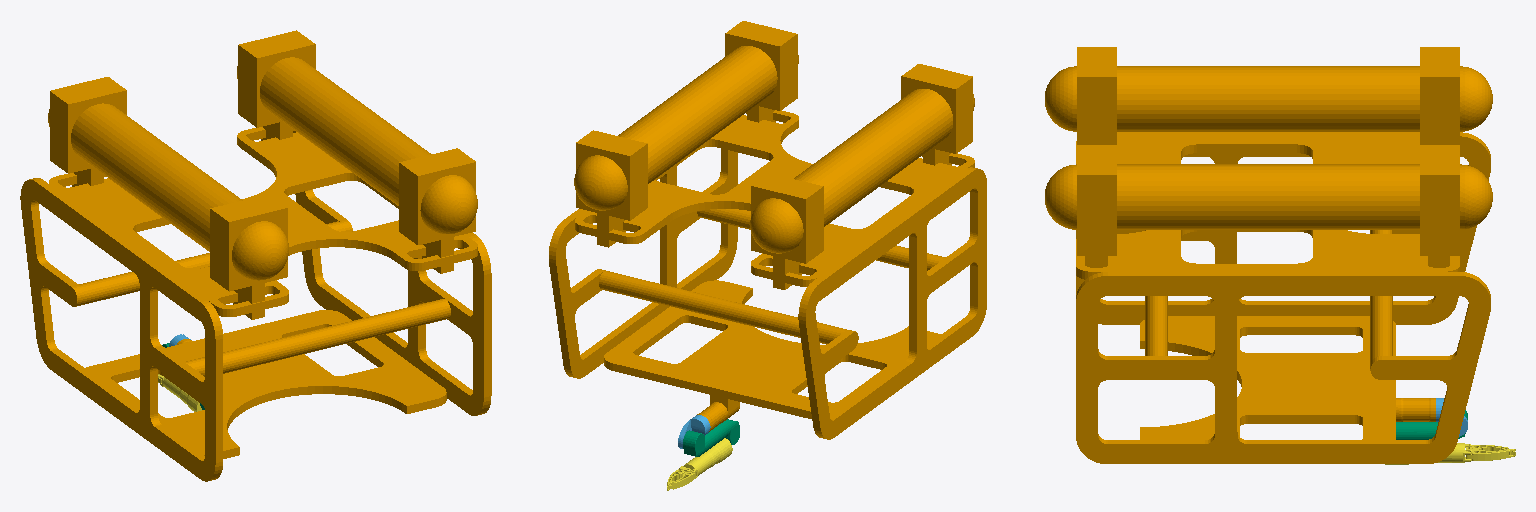
URDF robot description (generated_robot):
<?xml version='1.0' encoding='utf-8'?>
<robot name="generated_robot">
  <link name="base_link">
    <inertial>
      <origin xyz="-5.289826e-08 0.0096044129 0.074516494" rpy="0 0 0" />
      <mass value="127.84851" />
      <inertia ixx="20.014444" iyy="19.377" izz="23.15771" ixy="-5.7526144e-08" ixz="-7.2249073e-07" iyz="0.45698878" />
    </inertial>
    <visual>
      <origin xyz="0.7456337 -0.74786146 0.75564012" rpy="0 0 0" />
      <geometry>
        <mesh filename="meshes/part_023_solid_023.stl" scale="0.001 0.001 0.001" />
      </geometry>
    </visual>
    <visual>
      <origin xyz="0.7456337 -0.74786146 0.75564012" rpy="0 0 0" />
      <geometry>
        <mesh filename="meshes/part_011_solid_011.stl" scale="0.001 0.001 0.001" />
      </geometry>
    </visual>
    <visual>
      <origin xyz="0.7456337 -0.74786146 0.75564012" rpy="0 0 0" />
      <geometry>
        <mesh filename="meshes/part_015_solid_015.stl" scale="0.001 0.001 0.001" />
      </geometry>
    </visual>
    <visual>
      <origin xyz="0.7456337 -0.74786146 0.75564012" rpy="0 0 0" />
      <geometry>
        <mesh filename="meshes/part_007_solid_007.stl" scale="0.001 0.001 0.001" />
      </geometry>
    </visual>
    <visual>
      <origin xyz="0.7456337 -0.74786146 0.75564012" rpy="0 0 0" />
      <geometry>
        <mesh filename="meshes/part_006_solid_006.stl" scale="0.001 0.001 0.001" />
      </geometry>
    </visual>
    <visual>
      <origin xyz="0.7456337 -0.74786146 0.75564012" rpy="0 0 0" />
      <geometry>
        <mesh filename="meshes/part_013_solid_013.stl" scale="0.001 0.001 0.001" />
      </geometry>
    </visual>
    <visual>
      <origin xyz="0.7456337 -0.74786146 0.75564012" rpy="0 0 0" />
      <geometry>
        <mesh filename="meshes/part_008_solid_008.stl" scale="0.001 0.001 0.001" />
      </geometry>
    </visual>
    <visual>
      <origin xyz="0.7456337 -0.74786146 0.75564012" rpy="0 0 0" />
      <geometry>
        <mesh filename="meshes/part_010_solid_010.stl" scale="0.001 0.001 0.001" />
      </geometry>
    </visual>
    <visual>
      <origin xyz="0.7456337 -0.74786146 0.75564012" rpy="0 0 0" />
      <geometry>
        <mesh filename="meshes/part_014_solid_014.stl" scale="0.001 0.001 0.001" />
      </geometry>
    </visual>
    <visual>
      <origin xyz="0.7456337 -0.74786146 0.75564012" rpy="0 0 0" />
      <geometry>
        <mesh filename="meshes/part_004_solid_004.stl" scale="0.001 0.001 0.001" />
      </geometry>
    </visual>
    <visual>
      <origin xyz="0.7456337 -0.74786146 0.75564012" rpy="0 0 0" />
      <geometry>
        <mesh filename="meshes/part_005_solid_005.stl" scale="0.001 0.001 0.001" />
      </geometry>
    </visual>
    <visual>
      <origin xyz="0.7456337 -0.74786146 0.75564012" rpy="0 0 0" />
      <geometry>
        <mesh filename="meshes/part_002_solid_002.stl" scale="0.001 0.001 0.001" />
      </geometry>
    </visual>
    <visual>
      <origin xyz="0.7456337 -0.74786146 0.75564012" rpy="0 0 0" />
      <geometry>
        <mesh filename="meshes/part_012_solid_012.stl" scale="0.001 0.001 0.001" />
      </geometry>
    </visual>
    <visual>
      <origin xyz="0.7456337 -0.74786146 0.75564012" rpy="0 0 0" />
      <geometry>
        <mesh filename="meshes/part_003_solid_003.stl" scale="0.001 0.001 0.001" />
      </geometry>
    </visual>
    <visual>
      <origin xyz="0.7456337 -0.74786146 0.75564012" rpy="0 0 0" />
      <geometry>
        <mesh filename="meshes/part_001_solid_001.stl" scale="0.001 0.001 0.001" />
      </geometry>
    </visual>
    <visual>
      <origin xyz="0.7456337 -0.74786146 0.75564012" rpy="0 0 0" />
      <geometry>
        <mesh filename="meshes/part_009_solid_009.stl" scale="0.001 0.001 0.001" />
      </geometry>
    </visual>
    <visual>
      <origin xyz="0.7456337 -0.74786146 0.75564012" rpy="0 0 0" />
      <geometry>
        <mesh filename="meshes/part_016_solid_016.stl" scale="0.001 0.001 0.001" />
      </geometry>
    </visual>
    <collision>
      <origin xyz="0.7456337 -0.74786146 0.75564012" rpy="0 0 0" />
      <geometry>
        <mesh filename="meshes/part_023_solid_023.stl" scale="0.001 0.001 0.001" />
      </geometry>
    </collision>
    <collision>
      <origin xyz="0.7456337 -0.74786146 0.75564012" rpy="0 0 0" />
      <geometry>
        <mesh filename="meshes/part_011_solid_011.stl" scale="0.001 0.001 0.001" />
      </geometry>
    </collision>
    <collision>
      <origin xyz="0.7456337 -0.74786146 0.75564012" rpy="0 0 0" />
      <geometry>
        <mesh filename="meshes/part_015_solid_015.stl" scale="0.001 0.001 0.001" />
      </geometry>
    </collision>
    <collision>
      <origin xyz="0.7456337 -0.74786146 0.75564012" rpy="0 0 0" />
      <geometry>
        <mesh filename="meshes/part_007_solid_007.stl" scale="0.001 0.001 0.001" />
      </geometry>
    </collision>
    <collision>
      <origin xyz="0.7456337 -0.74786146 0.75564012" rpy="0 0 0" />
      <geometry>
        <mesh filename="meshes/part_006_solid_006.stl" scale="0.001 0.001 0.001" />
      </geometry>
    </collision>
    <collision>
      <origin xyz="0.7456337 -0.74786146 0.75564012" rpy="0 0 0" />
      <geometry>
        <mesh filename="meshes/part_013_solid_013.stl" scale="0.001 0.001 0.001" />
      </geometry>
    </collision>
    <collision>
      <origin xyz="0.7456337 -0.74786146 0.75564012" rpy="0 0 0" />
      <geometry>
        <mesh filename="meshes/part_008_solid_008.stl" scale="0.001 0.001 0.001" />
      </geometry>
    </collision>
    <collision>
      <origin xyz="0.7456337 -0.74786146 0.75564012" rpy="0 0 0" />
      <geometry>
        <mesh filename="meshes/part_010_solid_010.stl" scale="0.001 0.001 0.001" />
      </geometry>
    </collision>
    <collision>
      <origin xyz="0.7456337 -0.74786146 0.75564012" rpy="0 0 0" />
      <geometry>
        <mesh filename="meshes/part_014_solid_014.stl" scale="0.001 0.001 0.001" />
      </geometry>
    </collision>
    <collision>
      <origin xyz="0.7456337 -0.74786146 0.75564012" rpy="0 0 0" />
      <geometry>
        <mesh filename="meshes/part_004_solid_004.stl" scale="0.001 0.001 0.001" />
      </geometry>
    </collision>
    <collision>
      <origin xyz="0.7456337 -0.74786146 0.75564012" rpy="0 0 0" />
      <geometry>
        <mesh filename="meshes/part_005_solid_005.stl" scale="0.001 0.001 0.001" />
      </geometry>
    </collision>
    <collision>
      <origin xyz="0.7456337 -0.74786146 0.75564012" rpy="0 0 0" />
      <geometry>
        <mesh filename="meshes/part_002_solid_002.stl" scale="0.001 0.001 0.001" />
      </geometry>
    </collision>
    <collision>
      <origin xyz="0.7456337 -0.74786146 0.75564012" rpy="0 0 0" />
      <geometry>
        <mesh filename="meshes/part_012_solid_012.stl" scale="0.001 0.001 0.001" />
      </geometry>
    </collision>
    <collision>
      <origin xyz="0.7456337 -0.74786146 0.75564012" rpy="0 0 0" />
      <geometry>
        <mesh filename="meshes/part_003_solid_003.stl" scale="0.001 0.001 0.001" />
      </geometry>
    </collision>
    <collision>
      <origin xyz="0.7456337 -0.74786146 0.75564012" rpy="0 0 0" />
      <geometry>
        <mesh filename="meshes/part_001_solid_001.stl" scale="0.001 0.001 0.001" />
      </geometry>
    </collision>
    <collision>
      <origin xyz="0.7456337 -0.74786146 0.75564012" rpy="0 0 0" />
      <geometry>
        <mesh filename="meshes/part_009_solid_009.stl" scale="0.001 0.001 0.001" />
      </geometry>
    </collision>
    <collision>
      <origin xyz="0.7456337 -0.74786146 0.75564012" rpy="0 0 0" />
      <geometry>
        <mesh filename="meshes/part_016_solid_016.stl" scale="0.001 0.001 0.001" />
      </geometry>
    </collision>
  </link>
  <link name="link_002">
    <inertial>
      <origin xyz="0.0082906926 0.0080729915 0.026643313" rpy="0 0 0" />
      <mass value="0.32982793" />
      <inertia ixx="0.00026270286" iyy="0.00021715273" izz="0.00022125005" ixy="-4.3272029e-05" ixz="-5.9783517e-05" iyz="-6.9853028e-05" />
    </inertial>
    <visual>
      <origin xyz="0.74563369 -1.1422401 -1.1558721" rpy="1.5707963 0 0" />
      <geometry>
        <mesh filename="meshes/part_017_solid_017.stl" scale="0.001 0.001 0.001" />
      </geometry>
    </visual>
    <collision>
      <origin xyz="0.74563369 -1.1422401 -1.1558721" rpy="1.5707963 0 0" />
      <geometry>
        <mesh filename="meshes/part_017_solid_017.stl" scale="0.001 0.001 0.001" />
      </geometry>
    </collision>
  </link>
  <link name="link_003">
    <inertial>
      <origin xyz="-0.099008647 0.027997845 0.01730534" rpy="0 0 0" />
      <mass value="1.6833734" />
      <inertia ixx="0.0010259129" iyy="0.0089635085" izz="0.0093799411" ixy="0.0013611527" ixz="5.95968e-07" iyz="-2.7530333e-08" />
    </inertial>
    <visual>
      <origin xyz="-1.2063721 -1.1722401 -0.72894357" rpy="0 1.5707963 -1.5707963" />
      <geometry>
        <mesh filename="meshes/part_018_solid_018.stl" scale="0.001 0.001 0.001" />
      </geometry>
    </visual>
    <collision>
      <origin xyz="-1.2063721 -1.1722401 -0.72894357" rpy="0 1.5707963 -1.5707963" />
      <geometry>
        <mesh filename="meshes/part_018_solid_018.stl" scale="0.001 0.001 0.001" />
      </geometry>
    </collision>
  </link>
  <link name="link_004">
    <inertial>
      <origin xyz="0.12113248 -0.02816801 -0.014934833" rpy="0 0 0" />
      <mass value="1.3666849" />
      <inertia ixx="0.00058257624" iyy="0.0084245597" izz="0.0084298337" ixy="0.00031026529" ixz="0.00029788443" iyz="-5.4860878e-05" />
    </inertial>
    <visual>
      <origin xyz="-1.0083721 1.2282401 0.73083369" rpy="0 -1.5707963 -1.5707963" />
      <geometry>
        <mesh filename="meshes/part_019_solid_019.stl" scale="0.001 0.001 0.001" />
      </geometry>
    </visual>
    <visual>
      <origin xyz="-1.0083721 1.2282401 0.73083369" rpy="0 -1.5707963 -1.5707963" />
      <geometry>
        <mesh filename="meshes/part_021_solid_021.stl" scale="0.001 0.001 0.001" />
      </geometry>
    </visual>
    <visual>
      <origin xyz="-1.0083721 1.2282401 0.73083369" rpy="0 -1.5707963 -1.5707963" />
      <geometry>
        <mesh filename="meshes/part_020_solid_020.stl" scale="0.001 0.001 0.001" />
      </geometry>
    </visual>
    <visual>
      <origin xyz="-1.0083721 1.2282401 0.73083369" rpy="0 -1.5707963 -1.5707963" />
      <geometry>
        <mesh filename="meshes/part_022_solid_022.stl" scale="0.001 0.001 0.001" />
      </geometry>
    </visual>
    <collision>
      <origin xyz="-1.0083721 1.2282401 0.73083369" rpy="0 -1.5707963 -1.5707963" />
      <geometry>
        <mesh filename="meshes/part_019_solid_019.stl" scale="0.001 0.001 0.001" />
      </geometry>
    </collision>
    <collision>
      <origin xyz="-1.0083721 1.2282401 0.73083369" rpy="0 -1.5707963 -1.5707963" />
      <geometry>
        <mesh filename="meshes/part_021_solid_021.stl" scale="0.001 0.001 0.001" />
      </geometry>
    </collision>
    <collision>
      <origin xyz="-1.0083721 1.2282401 0.73083369" rpy="0 -1.5707963 -1.5707963" />
      <geometry>
        <mesh filename="meshes/part_020_solid_020.stl" scale="0.001 0.001 0.001" />
      </geometry>
    </collision>
    <collision>
      <origin xyz="-1.0083721 1.2282401 0.73083369" rpy="0 -1.5707963 -1.5707963" />
      <geometry>
        <mesh filename="meshes/part_022_solid_022.stl" scale="0.001 0.001 0.001" />
      </geometry>
    </collision>
  </link>
  <joint name="link_002_joint" type="revolute">
    <origin xyz="4.4200001e-09 0.40801064 -0.3866" rpy="-1.5707963 0 0" />
    <parent link="base_link" />
    <child link="link_002" />
    <axis xyz="0 0 1" />
    <limit lower="-1.57" upper="1.57" effort="10" velocity="5" />
  </joint>
  <joint name="link_003_joint" type="revolute">
    <origin xyz="0.016690119 0.03 0.0505" rpy="0 -1.5707963 0" />
    <parent link="link_002" />
    <child link="link_003" />
    <axis xyz="0 0 1" />
    <limit lower="-1.57" upper="1.57" effort="10" velocity="5" />
  </joint>
  <joint name="link_004_joint" type="revolute">
    <origin xyz="-0.198 0.056 0.0018901193" rpy="3.1415927 0 0" />
    <parent link="link_003" />
    <child link="link_004" />
    <axis xyz="0 0 1" />
    <limit lower="-1.57" upper="1.57" effort="10" velocity="5" />
  </joint>
</robot>

--- Facts derived from the render (not from the file) ---
3 views of the same robot in one strip: view 1: azimuth 30°, elevation 25°; view 2: azimuth 150°, elevation 25°; view 3: azimuth 270°, elevation 25° (orthographic).
Robot: generated_robot — 4 links, 3 joints (3 revolute); root link base_link; default pose: all joints at 0.
Links seen in each view (by area): view 1: base_link; view 2: base_link, link_004, link_003; view 3: base_link, link_004, link_003.
Link boxes in pixels (box(x1,y1,x2,y2)): base_link: box(20, 30, 491, 481); base_link: box(549, 21, 986, 439); link_004: box(667, 438, 732, 490); link_003: box(683, 419, 739, 456); base_link: box(1045, 47, 1492, 463); link_004: box(1385, 443, 1515, 464); link_003: box(1396, 410, 1467, 439).
Size in the robot's own frame: 0.8268 by 1.15 by 0.9492 metres.
Meshes: 23 distinct files referenced, 23 mesh visuals loaded (23 binary STL).
